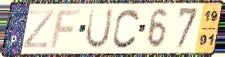6: (146, 7, 170, 50)
7: (177, 6, 200, 51)
C: (111, 7, 142, 50)
F: (49, 8, 83, 50)
U: (84, 7, 115, 51)
Z: (21, 8, 56, 50)
